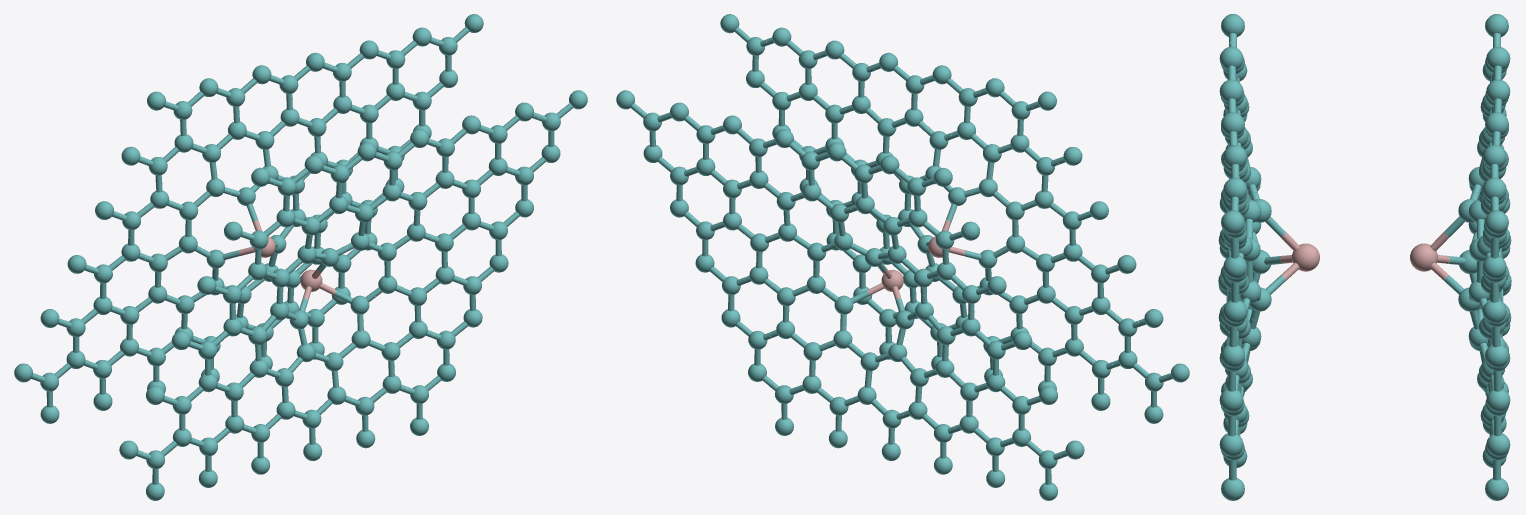
File: bigwBi.pdb.glb
3 renders of one model, left to right at view 1: azimuth 30°, elevation 25°; view 2: azimuth 150°, elevation 25°; view 3: azimuth 270°, elevation 25°, orthographic. The views are drawn at different scales.
Visible parts, largest first — view 1: vmd_mol0_rep0; view 2: vmd_mol0_rep0; view 3: vmd_mol0_rep0.
Boxes of the visible parts, bbox=[...] form: vmd_mol0_rep0: bbox=[14, 14, 587, 500]; vmd_mol0_rep0: bbox=[616, 14, 1189, 500]; vmd_mol0_rep0: bbox=[1218, 14, 1511, 500].
Size of the model in its own units: 1.55 by 0.9722 by 0.6684.
